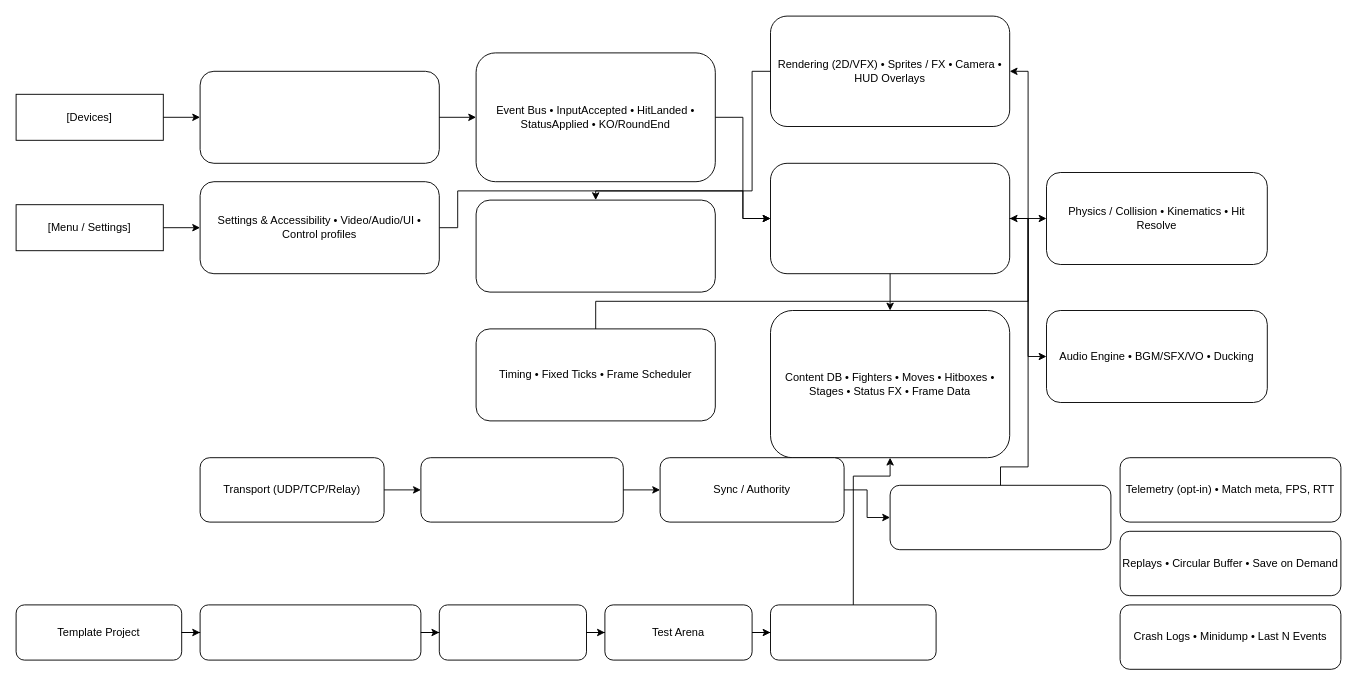
This 1357x685 diagram has some shape labels left out. The centre of each missing label's shape, as x and y in pixels:
"Author Moves/Hitboxes/ Status Scripts" belongs at point (310, 632).
"Input Layer • Adapters (XInput/KB/M) • Map / Buffer / Anti-ghost" belongs at point (319, 116).
"Lint / Validate" belongs at point (512, 632).
"Package / Export" belongs at point (853, 632).
"Prediction / Correction" belongs at point (1000, 517).
"Rules Engine • FSM • Hit/Hurt • Status Logic • Round Flow" belongs at point (890, 218).
"Session Manager • Room Code • Heartbeats" belongs at point (521, 489).
"UI & HUD • Menus • HUD (HP, timers)" belongs at point (595, 245).
